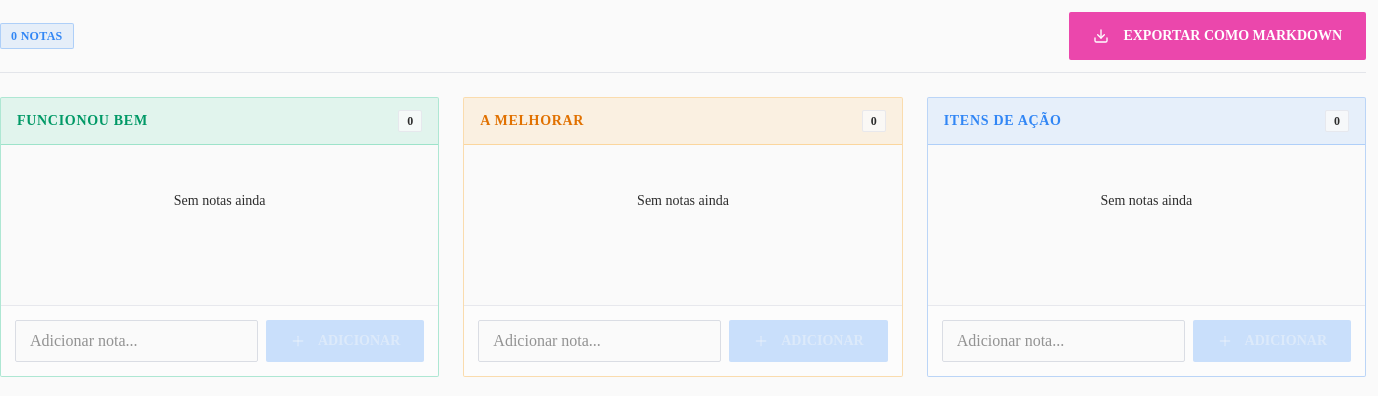
it: Agile Tools Integration Tests › RetroBoardTool › allows voting and deleting notes
Type "Boa comunicação" into the field with placeholder "Adicionar nota..." below "Funcionou Bem" at (136, 341), box 15,320 -> 258,362
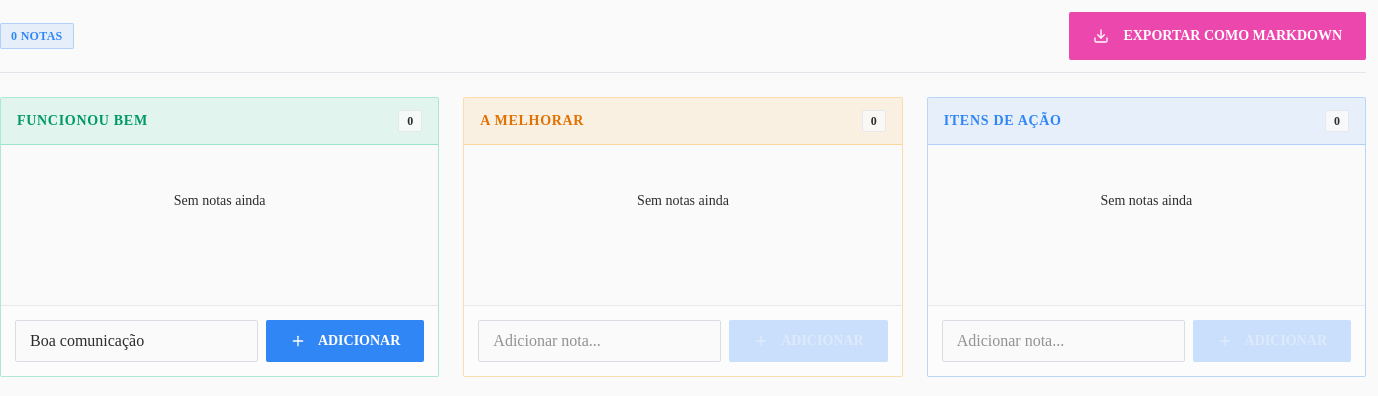
Click the button "Adicionar" below "Funcionou Bem" at (345, 341), box 266,320 -> 424,362
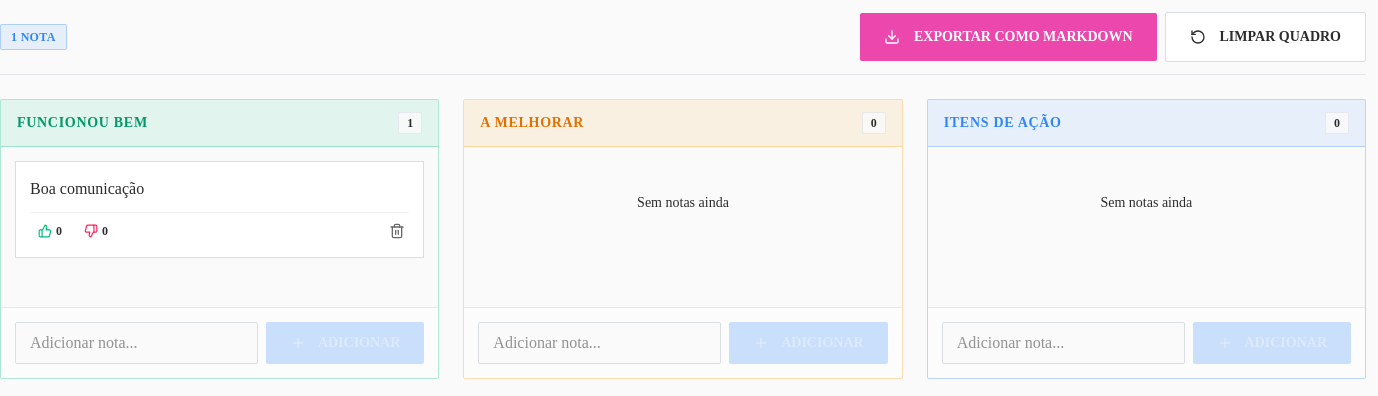
Click the button named "Votar neste item" at (50, 231), box 30,221 -> 70,241
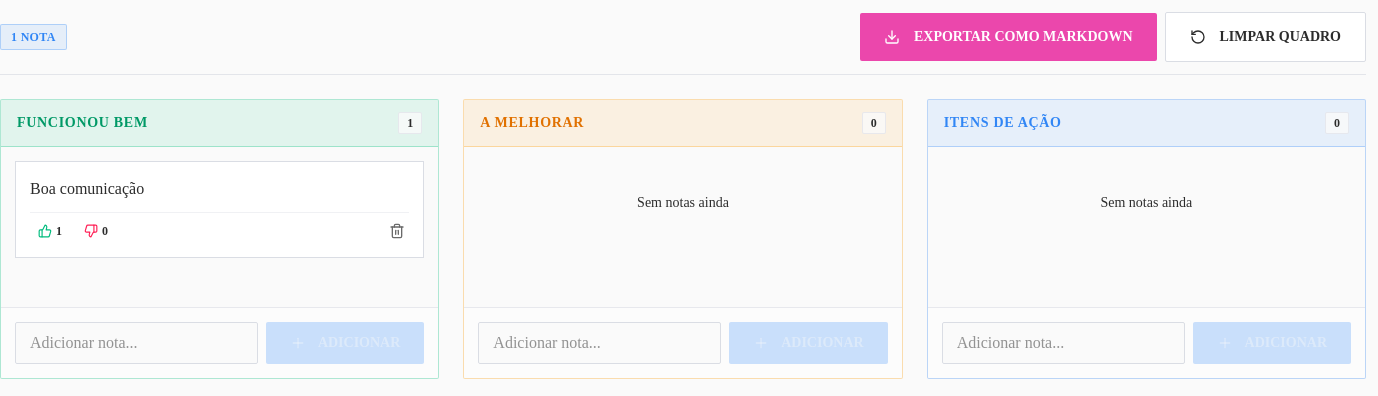
expect the button named "Votar neste item" reads "1": met, box 30,221 -> 70,241
Click the button named "Excluir esta nota" at (397, 231), box 385,219 -> 409,243
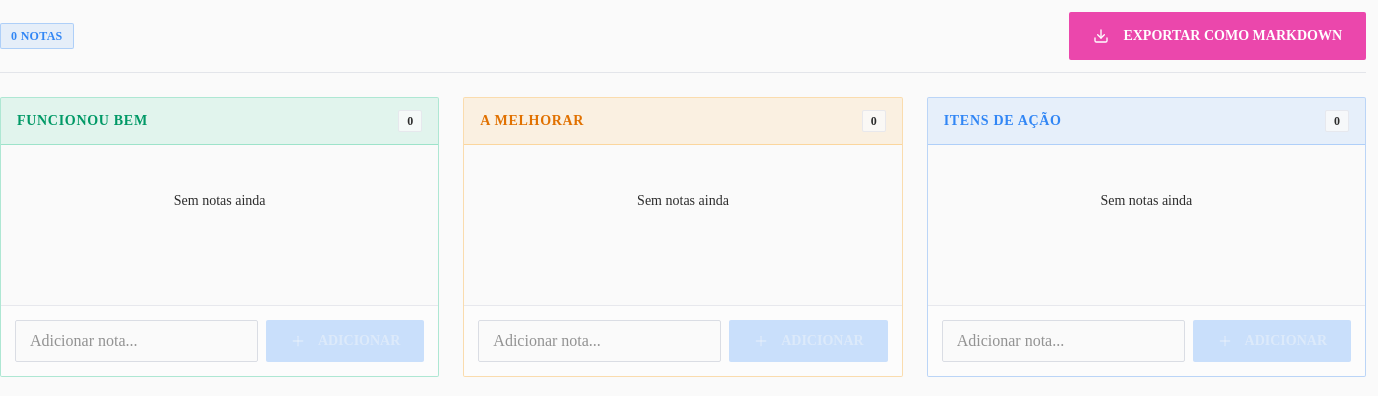
expect the text "Boa comunicação" is gone: met
